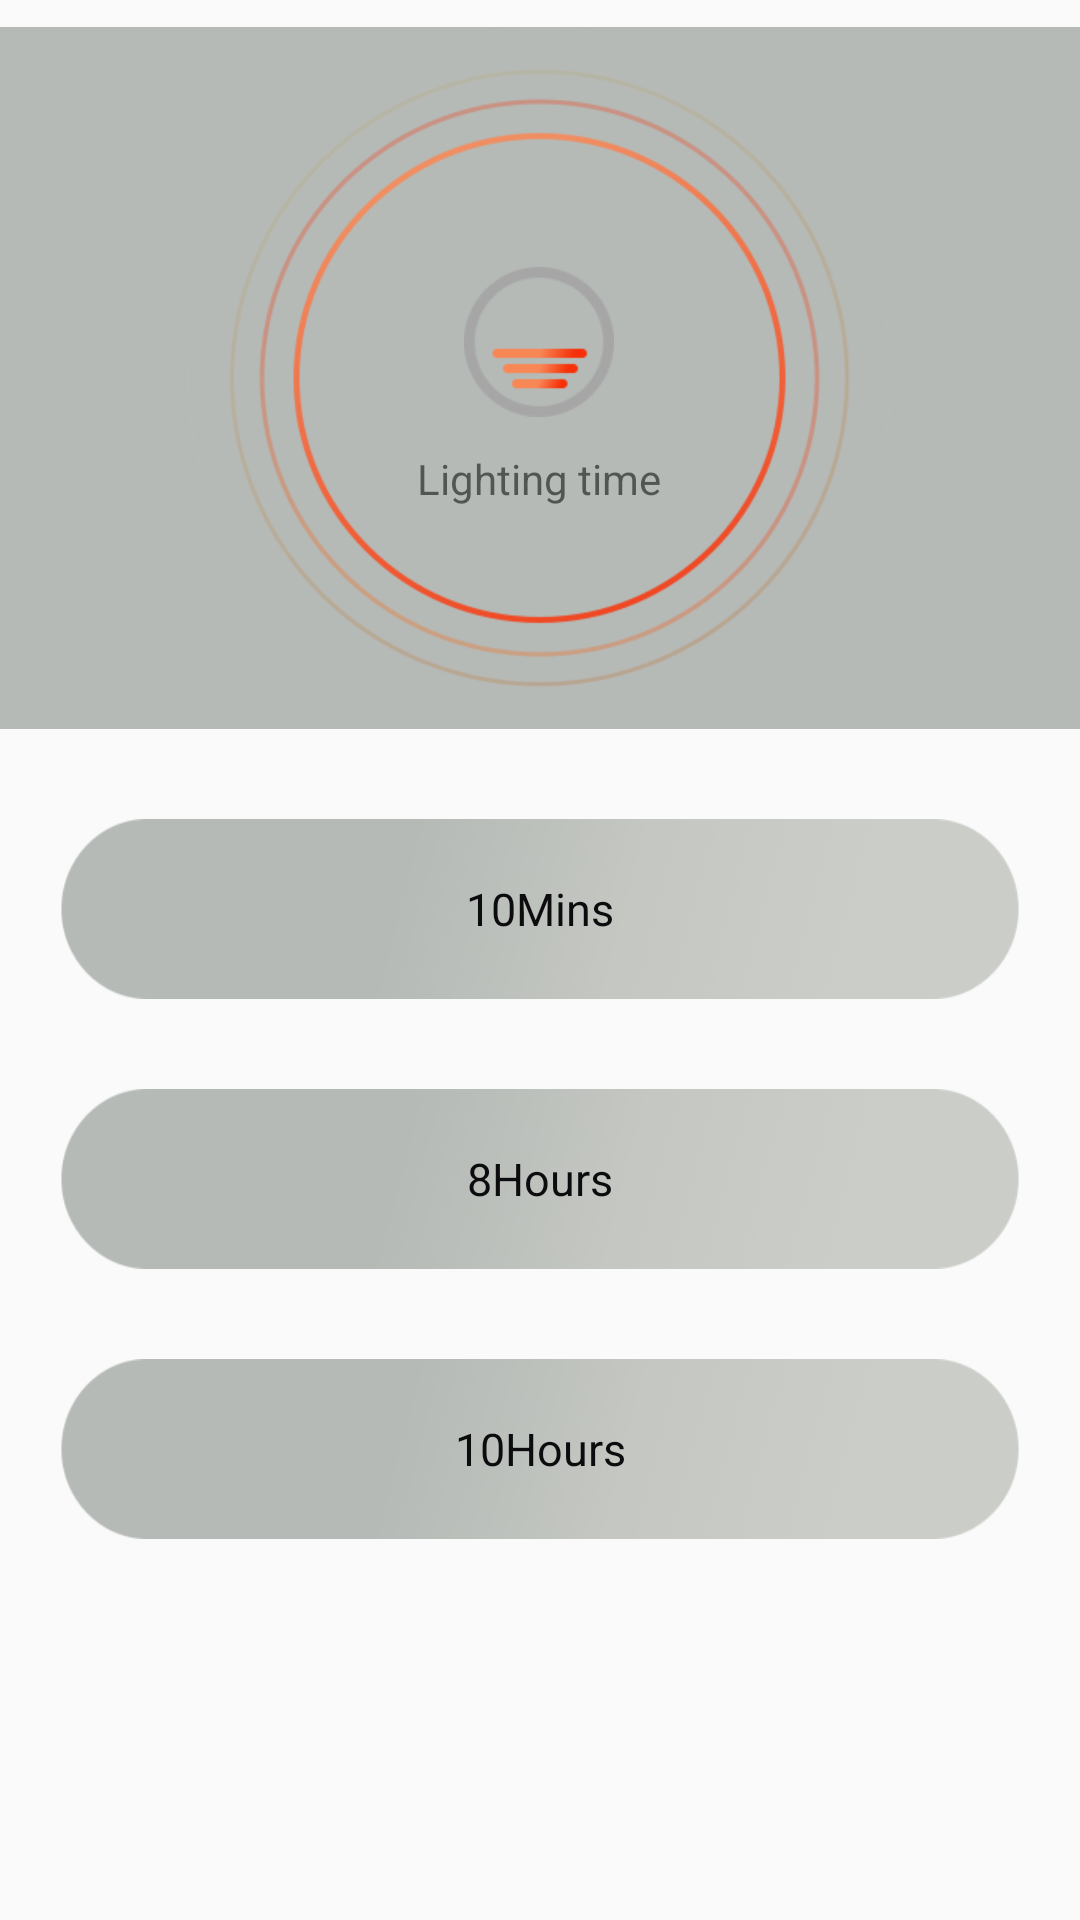

Where to tap for icons on this 1080x1920 app screen, as (x=x, y=y):
dengguang: (x=540, y=368)
